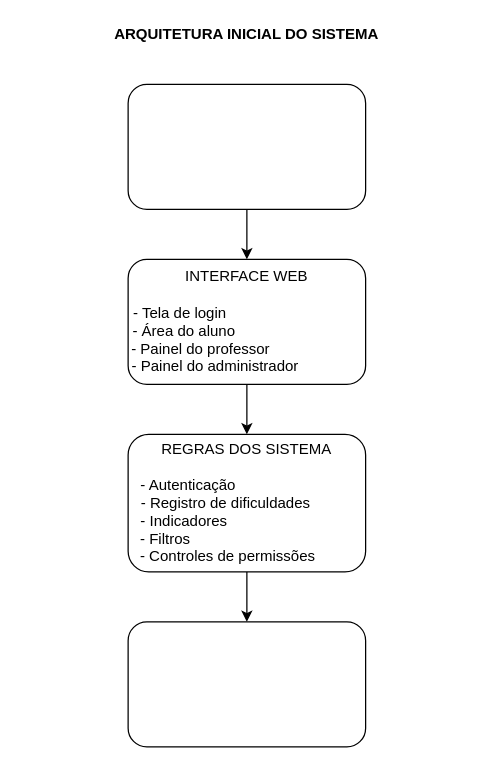
Image size: 493x769. Some labels were removed from this diagram. The centre of each missing label's shape, as x and y in pixels:
"BANCO DE DADOS - Usuários - Disciplinas - Conteúdos - Dificuldades" goes at pixel 246 684.
"USUÁRIOS - Aluno - Professor - Administrador" goes at pixel 246 146.
